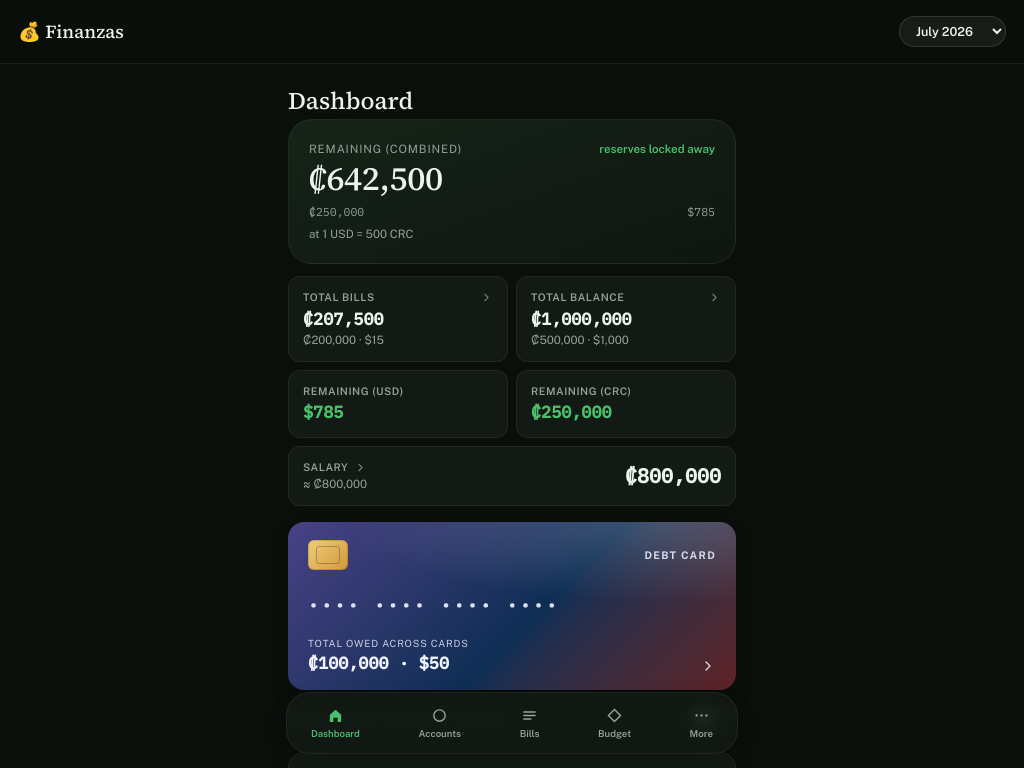
Imaginary Money — with data › groups entries per person and totals only pending ones
This screenshot has width=1024, height=768.
Click the button "More" at (701, 723), box [684,703,719,743]
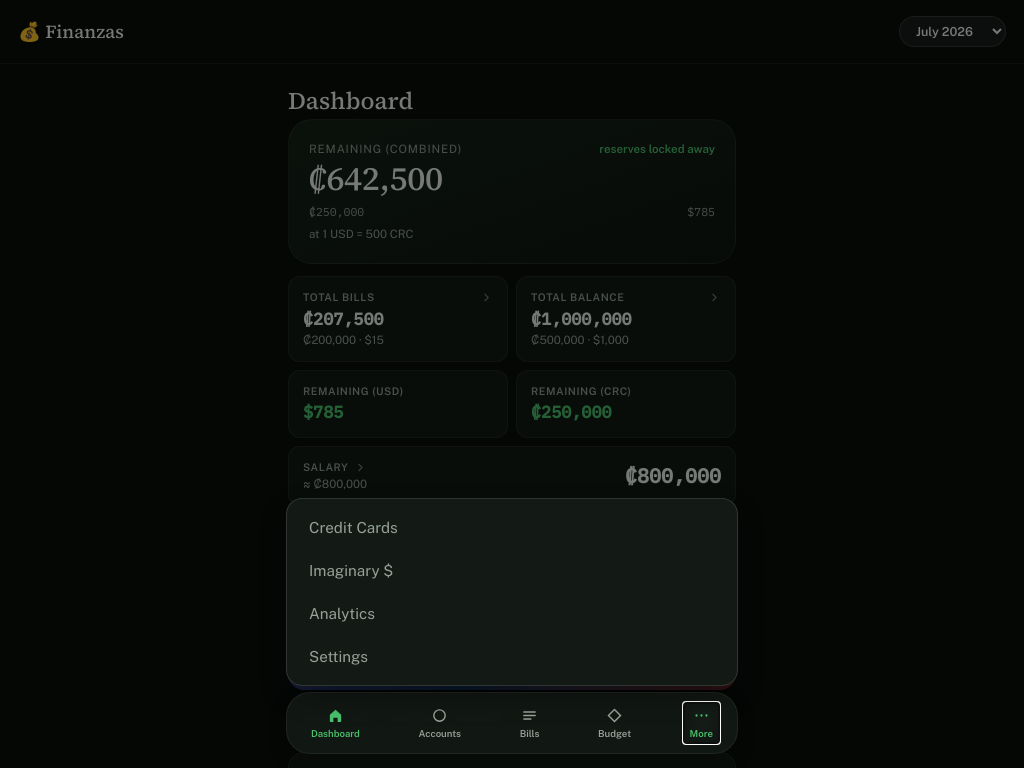
Click the button "Imaginary $" at (351, 570), box [295,550,729,591]
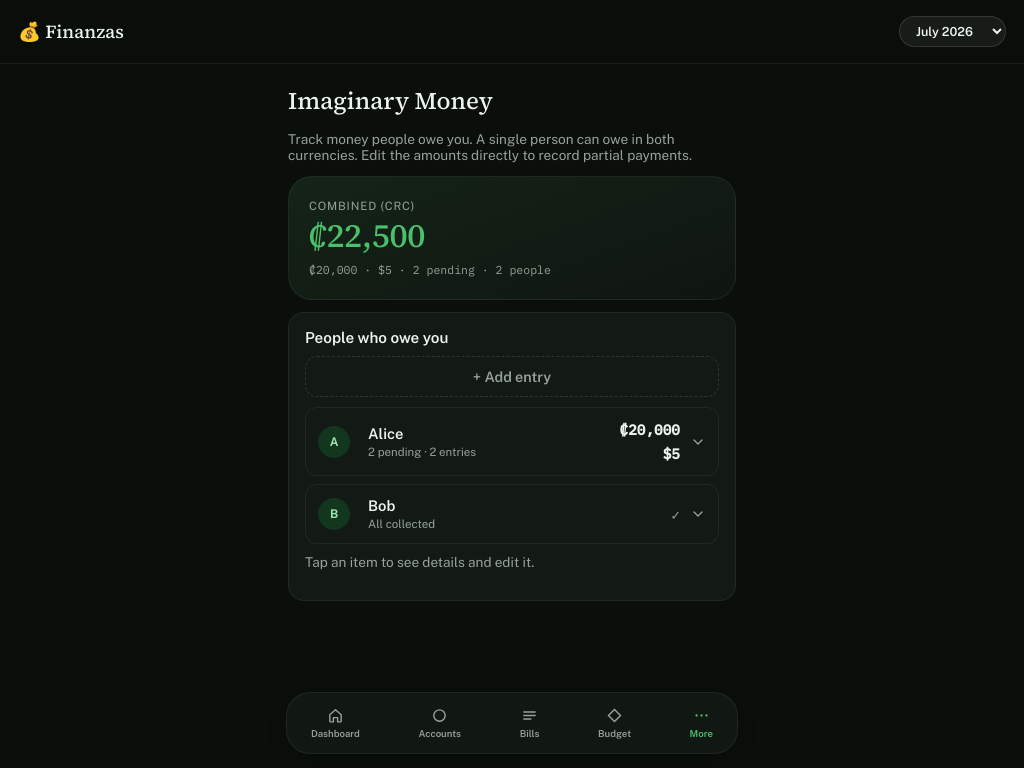
Check: the text "₡22,500" is shown, box [309,212,425,258]
Check: the text "₡20,000 · $5 · 2 pending · 2 people" is shown, box [309,262,551,277]
Check: the text "Bob" is shown, box [368,497,395,514]
